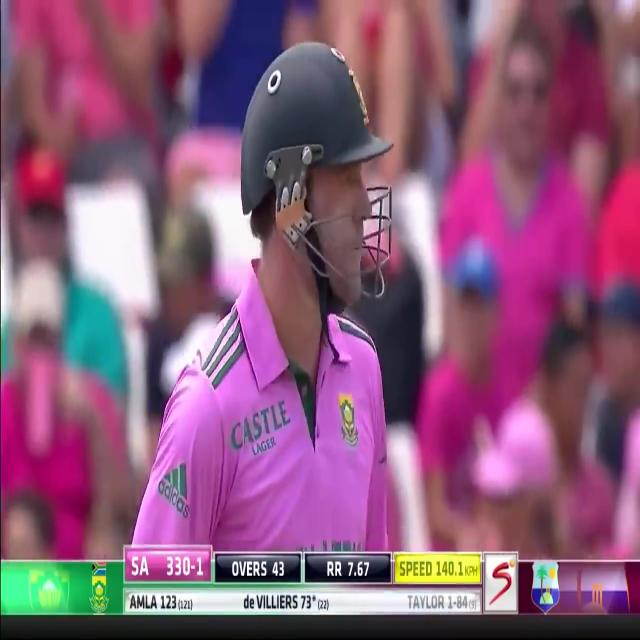Ball: (134, 41, 402, 555)
